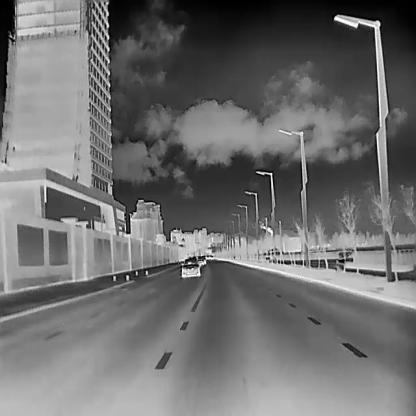car: (180, 257, 200, 277), (198, 256, 204, 265), (201, 254, 206, 264), (204, 254, 209, 260), (209, 254, 213, 260)
